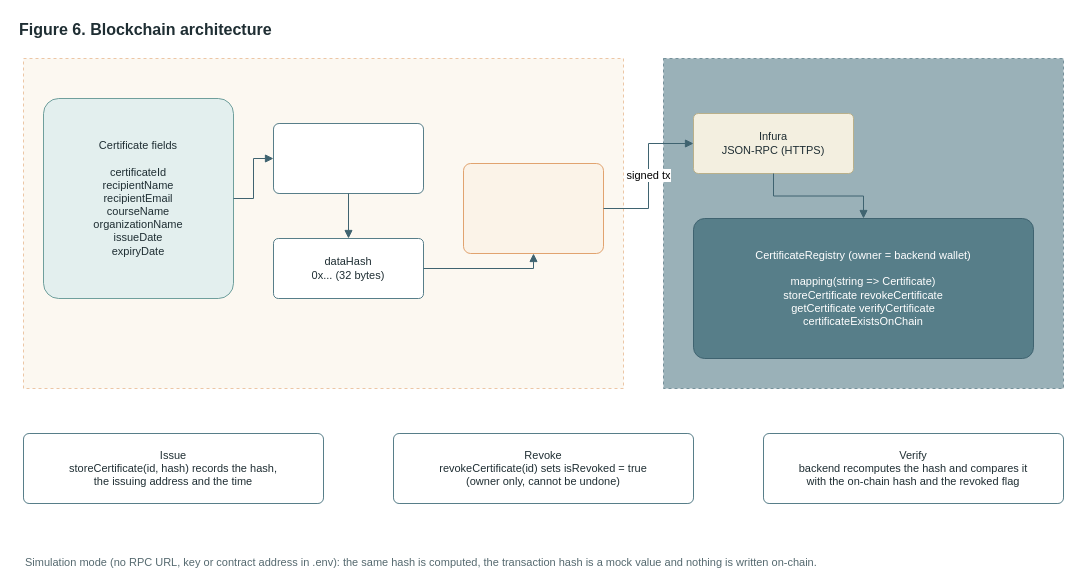
This 1081x588 diagram has some shape labels left out. The box of each missing label's shape, as (x1, y1, x2, y2) in pixels:
Backend (services/blockchain.js): (22, 58, 624, 388)
Ethereum Sepolia test network: (662, 58, 1064, 388)
ethers.js v6 signer = backend wallet: (462, 162, 604, 254)
JSON.stringify then SHA-256: (272, 122, 424, 194)
